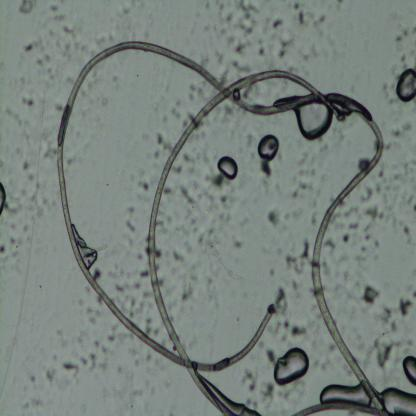Air bubble: (294, 101, 335, 144), (272, 346, 310, 388), (320, 380, 372, 404), (380, 385, 416, 416), (74, 229, 98, 268), (395, 64, 416, 102), (216, 154, 239, 178), (401, 353, 416, 388), (258, 135, 278, 160), (0, 181, 7, 214), (232, 89, 240, 102)
Background material: (0, 90, 45, 394), (235, 0, 259, 35), (286, 238, 310, 272), (373, 338, 399, 364), (293, 155, 318, 182), (209, 213, 235, 238), (219, 104, 241, 129), (204, 278, 220, 310), (270, 320, 292, 343), (274, 287, 290, 318), (178, 148, 196, 175), (239, 368, 259, 392), (103, 325, 134, 339), (3, 107, 24, 126), (178, 186, 196, 208), (23, 38, 49, 52), (197, 192, 216, 211), (234, 37, 253, 56), (279, 35, 294, 59), (258, 160, 276, 180), (364, 284, 382, 304), (63, 360, 80, 381), (83, 306, 102, 324), (44, 135, 56, 163), (180, 280, 194, 304), (260, 380, 276, 401), (291, 179, 307, 200), (186, 82, 204, 100), (21, 396, 44, 410), (290, 322, 310, 338), (145, 317, 160, 338), (219, 4, 234, 25), (87, 348, 100, 372), (268, 207, 282, 229), (211, 169, 225, 191), (398, 297, 414, 316), (18, 0, 38, 15), (4, 200, 25, 214), (366, 205, 384, 221), (126, 345, 140, 365), (297, 10, 314, 26), (127, 300, 142, 318), (41, 364, 55, 383), (233, 59, 251, 73), (36, 52, 52, 67), (243, 396, 259, 411), (394, 28, 410, 42), (244, 84, 258, 100), (269, 16, 285, 30), (313, 12, 327, 28), (219, 194, 232, 210), (116, 282, 130, 296), (98, 360, 113, 373), (360, 187, 373, 202), (157, 219, 169, 235), (344, 293, 363, 303), (172, 101, 182, 120), (403, 160, 416, 174), (127, 387, 142, 399), (343, 206, 358, 218), (44, 67, 56, 82), (174, 250, 186, 265), (221, 67, 230, 86), (147, 145, 160, 158), (17, 74, 31, 86), (101, 346, 116, 357), (262, 14, 270, 34), (214, 50, 224, 66), (381, 306, 391, 322), (213, 26, 226, 38), (40, 197, 54, 208), (332, 217, 346, 228), (22, 95, 36, 106), (37, 204, 45, 223), (188, 132, 207, 140), (384, 140, 399, 150), (76, 332, 88, 344), (50, 15, 68, 23), (264, 41, 276, 53), (390, 212, 398, 230), (105, 28, 115, 42), (200, 54, 210, 68), (63, 26, 75, 37), (126, 219, 137, 231), (340, 232, 351, 244), (52, 102, 65, 112), (155, 133, 165, 146), (360, 157, 369, 171), (393, 172, 407, 181), (310, 43, 319, 57), (121, 5, 132, 16), (324, 239, 335, 250), (78, 43, 89, 54), (257, 40, 265, 55), (192, 218, 200, 232), (382, 204, 398, 211), (267, 349, 275, 363), (172, 163, 183, 173), (387, 96, 400, 104), (322, 261, 330, 274), (390, 320, 398, 333), (140, 28, 150, 38), (233, 239, 243, 249), (140, 180, 150, 190), (16, 258, 22, 274), (28, 371, 36, 383), (130, 282, 142, 290), (22, 185, 28, 200), (393, 129, 403, 138), (164, 143, 174, 152), (184, 242, 194, 251), (96, 36, 106, 45), (293, 0, 301, 11), (348, 223, 359, 231), (197, 233, 205, 244), (23, 160, 30, 172), (227, 34, 234, 46), (93, 269, 100, 281), (312, 209, 318, 223), (402, 228, 411, 237), (51, 353, 60, 362), (142, 290, 152, 298), (10, 249, 20, 257), (64, 78, 74, 86), (406, 239, 416, 247), (202, 24, 212, 32), (140, 270, 150, 278), (158, 278, 166, 288), (402, 348, 410, 358), (356, 254, 366, 262), (374, 238, 382, 248), (408, 190, 414, 203), (23, 222, 30, 233), (364, 220, 370, 232), (186, 50, 195, 58), (382, 192, 388, 204), (291, 281, 299, 290), (164, 188, 172, 197), (156, 247, 162, 259), (165, 378, 172, 388), (380, 82, 388, 90), (329, 343, 337, 351), (180, 118, 188, 126), (336, 285, 344, 293), (78, 406, 87, 413), (80, 358, 89, 365), (0, 244, 6, 254), (270, 267, 276, 277), (376, 182, 381, 194), (332, 212, 342, 218), (395, 44, 405, 50), (2, 255, 8, 265), (365, 234, 372, 242), (302, 54, 310, 61), (403, 123, 411, 130), (10, 222, 17, 230), (10, 236, 16, 245), (390, 80, 395, 90), (344, 271, 349, 281), (50, 6, 58, 12), (98, 296, 104, 304), (378, 170, 384, 178), (127, 206, 135, 212), (28, 173, 34, 181), (148, 353, 153, 362), (90, 49, 96, 56), (410, 106, 416, 113), (144, 247, 150, 254), (360, 245, 366, 252), (58, 330, 65, 336), (250, 138, 254, 148), (214, 0, 219, 8), (336, 0, 344, 5), (171, 346, 177, 352), (206, 1, 210, 10), (408, 340, 414, 346), (94, 342, 101, 347), (400, 54, 404, 62), (412, 26, 416, 34), (413, 289, 416, 299), (413, 204, 416, 212), (236, 316, 240, 322), (404, 63, 408, 68)
Glass filter fibre: (52, 37, 72, 55), (212, 241, 220, 256), (95, 245, 107, 250)
Microfibre: (53, 39, 389, 416), (144, 70, 344, 416)
